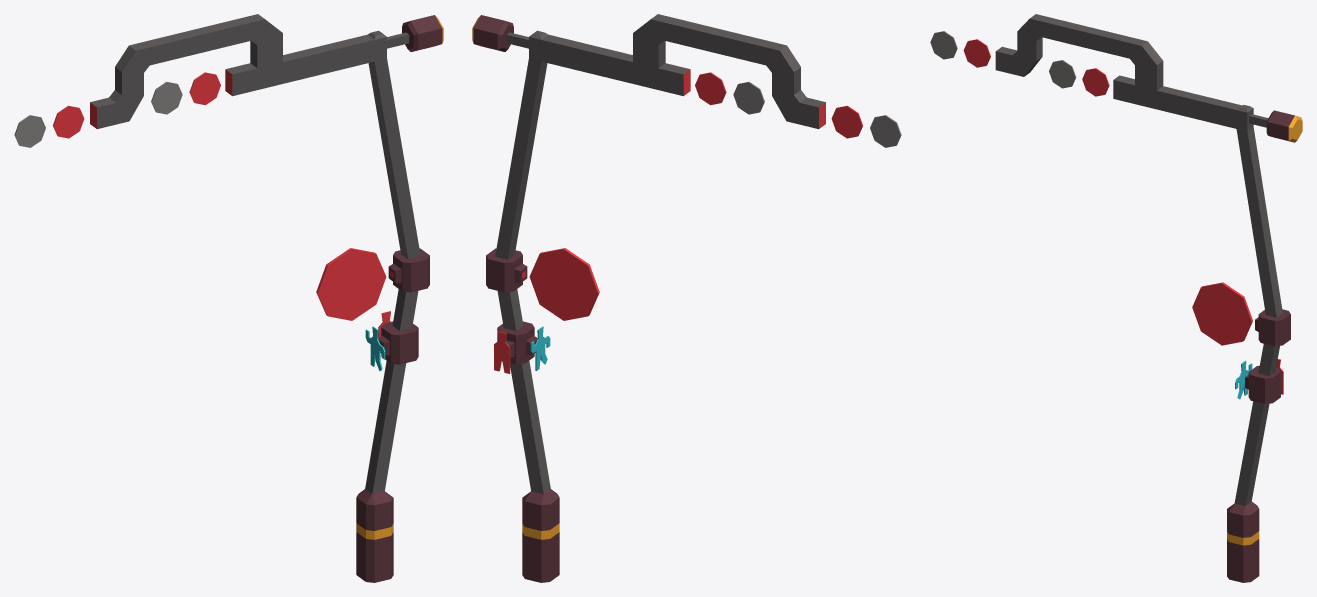
Rendered from scifi-traffic-lights-long-corner-b.fbx.
The picture shows the model from 3 angles, left to right: view 1: azimuth 30°, elevation 25°; view 2: azimuth 150°, elevation 25°; view 3: azimuth 330°, elevation 25°; orthographic projection. The views are drawn at different scales.
Visible parts, largest first — view 1: scifi-traffic-lights-long-corner-b; view 2: scifi-traffic-lights-long-corner-b; view 3: scifi-traffic-lights-long-corner-b.
Part boxes in pixels (x1,y1,x2,y2): scifi-traffic-lights-long-corner-b: [14, 14, 443, 582]; scifi-traffic-lights-long-corner-b: [472, 14, 901, 582]; scifi-traffic-lights-long-corner-b: [930, 14, 1302, 582].
Size of the model in its own units: 7.17 by 9.5 by 0.6887.
